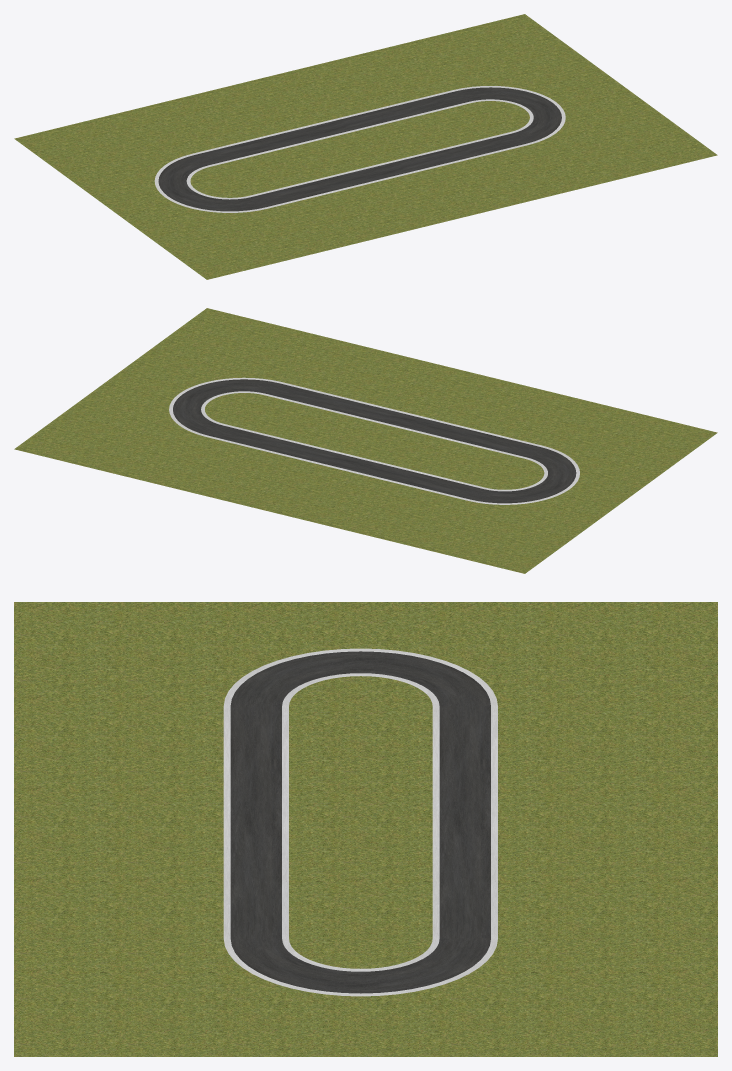
The model's file is basic_track.dae.
The picture shows the model from 3 angles, top to bottom: view 1: azimuth 30°, elevation 25°; view 2: azimuth 150°, elevation 25°; view 3: azimuth 270°, elevation 25°; orthographic projection. The views are drawn at different scales.
Visible parts, largest first — view 1: field, road2, outerroad2, innerroad2; view 2: field, road2, outerroad2, innerroad2; view 3: field, road2, outerroad2, innerroad2.
Part boxes in pixels (box(x1,y1,x2,y2)): field: box(14, 14, 717, 279); road2: box(158, 87, 561, 211); outerroad2: box(154, 86, 565, 212); innerroad2: box(186, 99, 533, 199); field: box(14, 308, 717, 573); road2: box(173, 379, 576, 503); outerroad2: box(169, 377, 579, 504); innerroad2: box(201, 391, 547, 491); field: box(14, 602, 717, 1056); road2: box(230, 651, 490, 993); outerroad2: box(223, 648, 497, 996); innerroad2: box(282, 673, 439, 971).
Size of the model in its own units: 15.84 by 10.36 by 0.01.
Materials: 3 (3 with a texture image).
